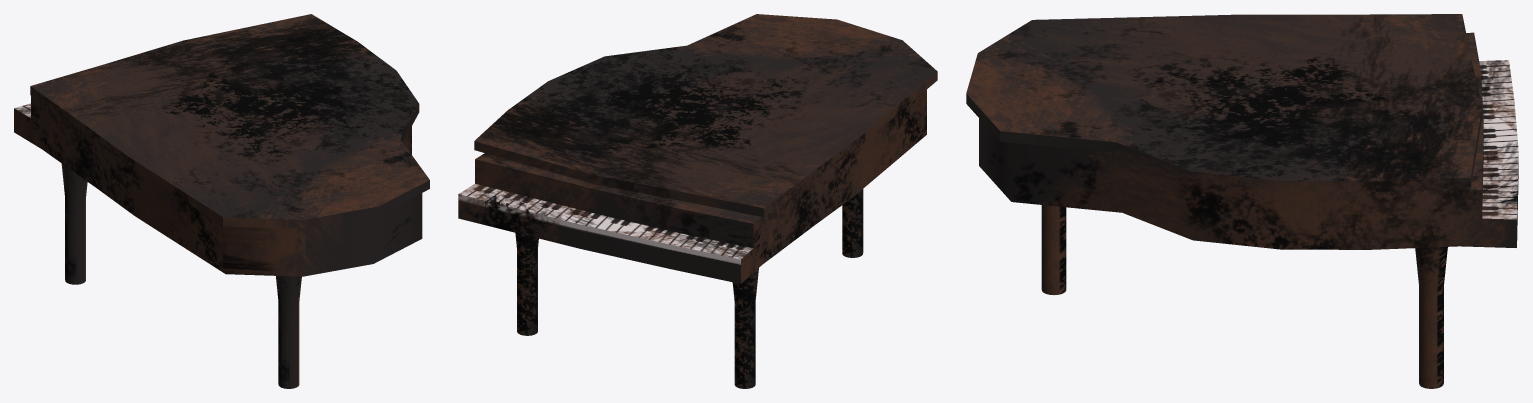
File: piano.obj
3 views of the same model, side by side, from view 1: azimuth 30°, elevation 25°; view 2: azimuth 150°, elevation 25°; view 3: azimuth 270°, elevation 25° (orthographic). The views are drawn at different scales.
Visible parts, largest first — view 1: pCylinder5; view 2: pCylinder5; view 3: pCylinder5.
Boxes of the visible parts, <box> form: pCylinder5: <box>14,14,429,388</box>; pCylinder5: <box>458,14,937,388</box>; pCylinder5: <box>966,14,1518,388</box>.
Size of the model in its own units: 4.45 by 2.81 by 6.2.
Materials: 1 (1 with a texture image).
